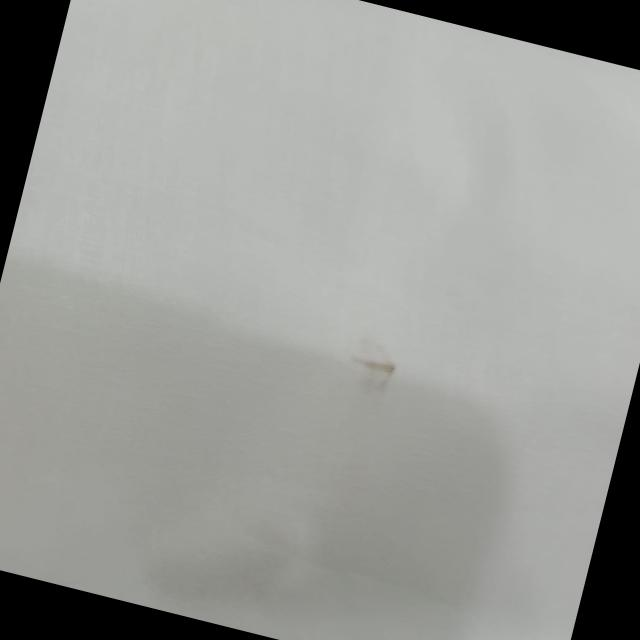stain: (322, 330, 420, 423)
